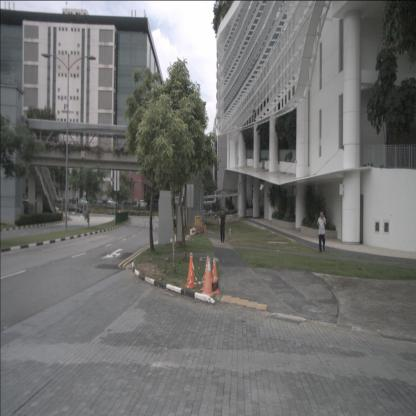cone: (202, 258, 214, 296), (184, 252, 196, 289), (209, 258, 221, 294), (200, 256, 212, 292), (203, 224, 207, 235)
